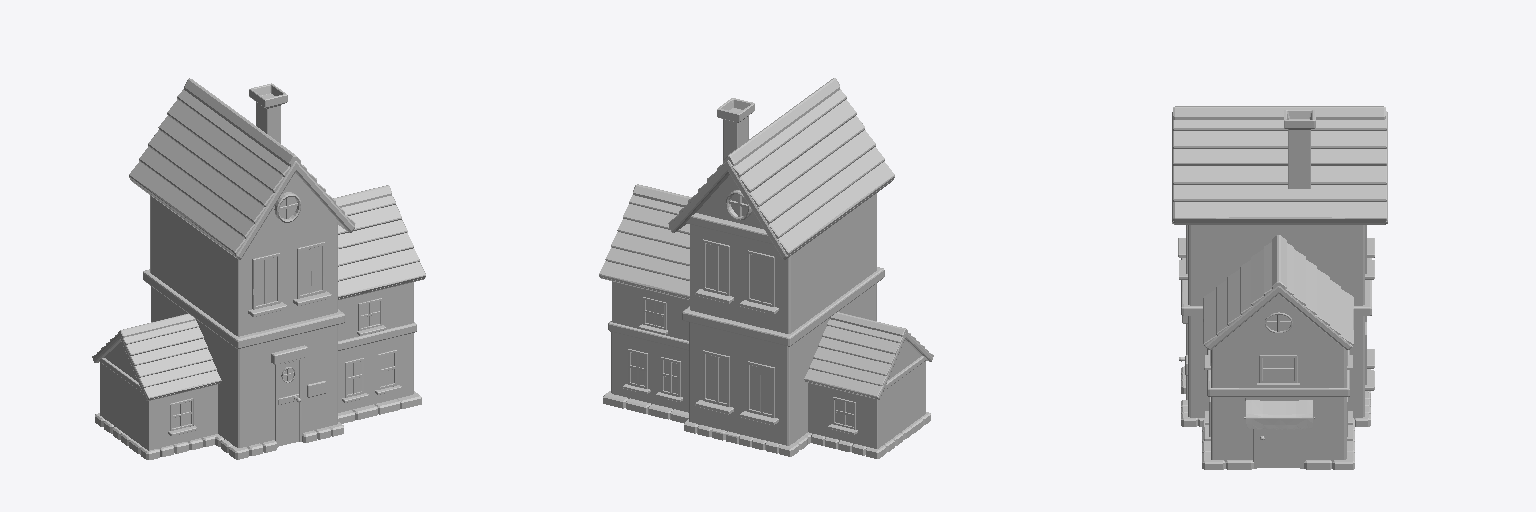
The model's file is HouseOBJ.obj.
3 renders of one model, left to right at view 1: azimuth 30°, elevation 25°; view 2: azimuth 150°, elevation 25°; view 3: azimuth 270°, elevation 25°, orthographic.
Parts seen in each view (by area): view 1: node_id36_mesh_id37; view 2: node_id36_mesh_id37; view 3: node_id36_mesh_id37.
Boxes of the visible parts, box(x1,y1,x2,y2) form: node_id36_mesh_id37: box(92, 78, 425, 459); node_id36_mesh_id37: box(599, 78, 933, 458); node_id36_mesh_id37: box(1172, 106, 1387, 469).
Bounding box in the file's own units: 2.62 × 2.78 × 1.79.